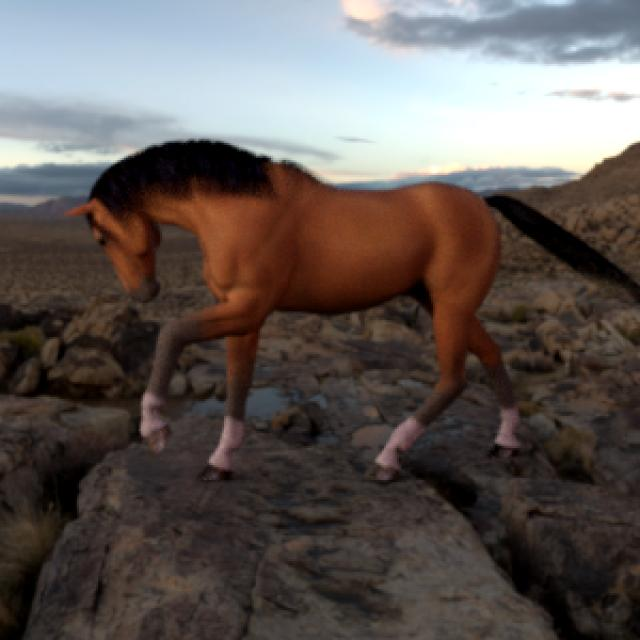horse: (68, 140, 640, 481)
